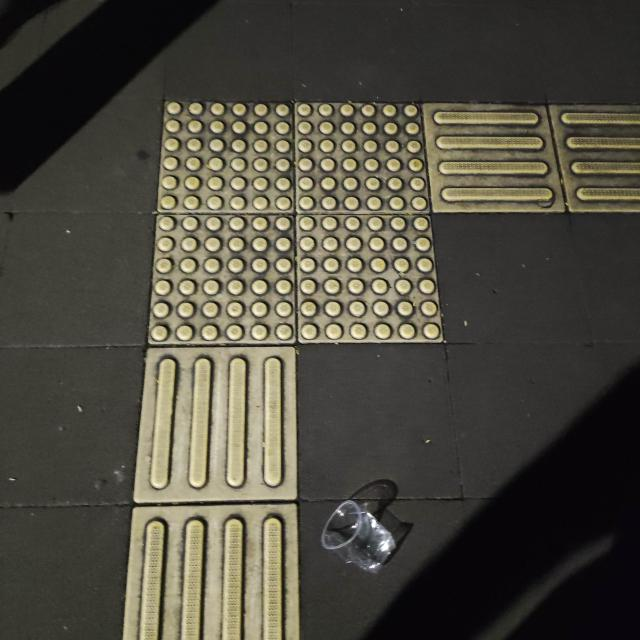kanan: (66, 52, 640, 433)
